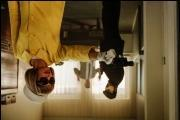gun: (104, 49, 134, 67)
